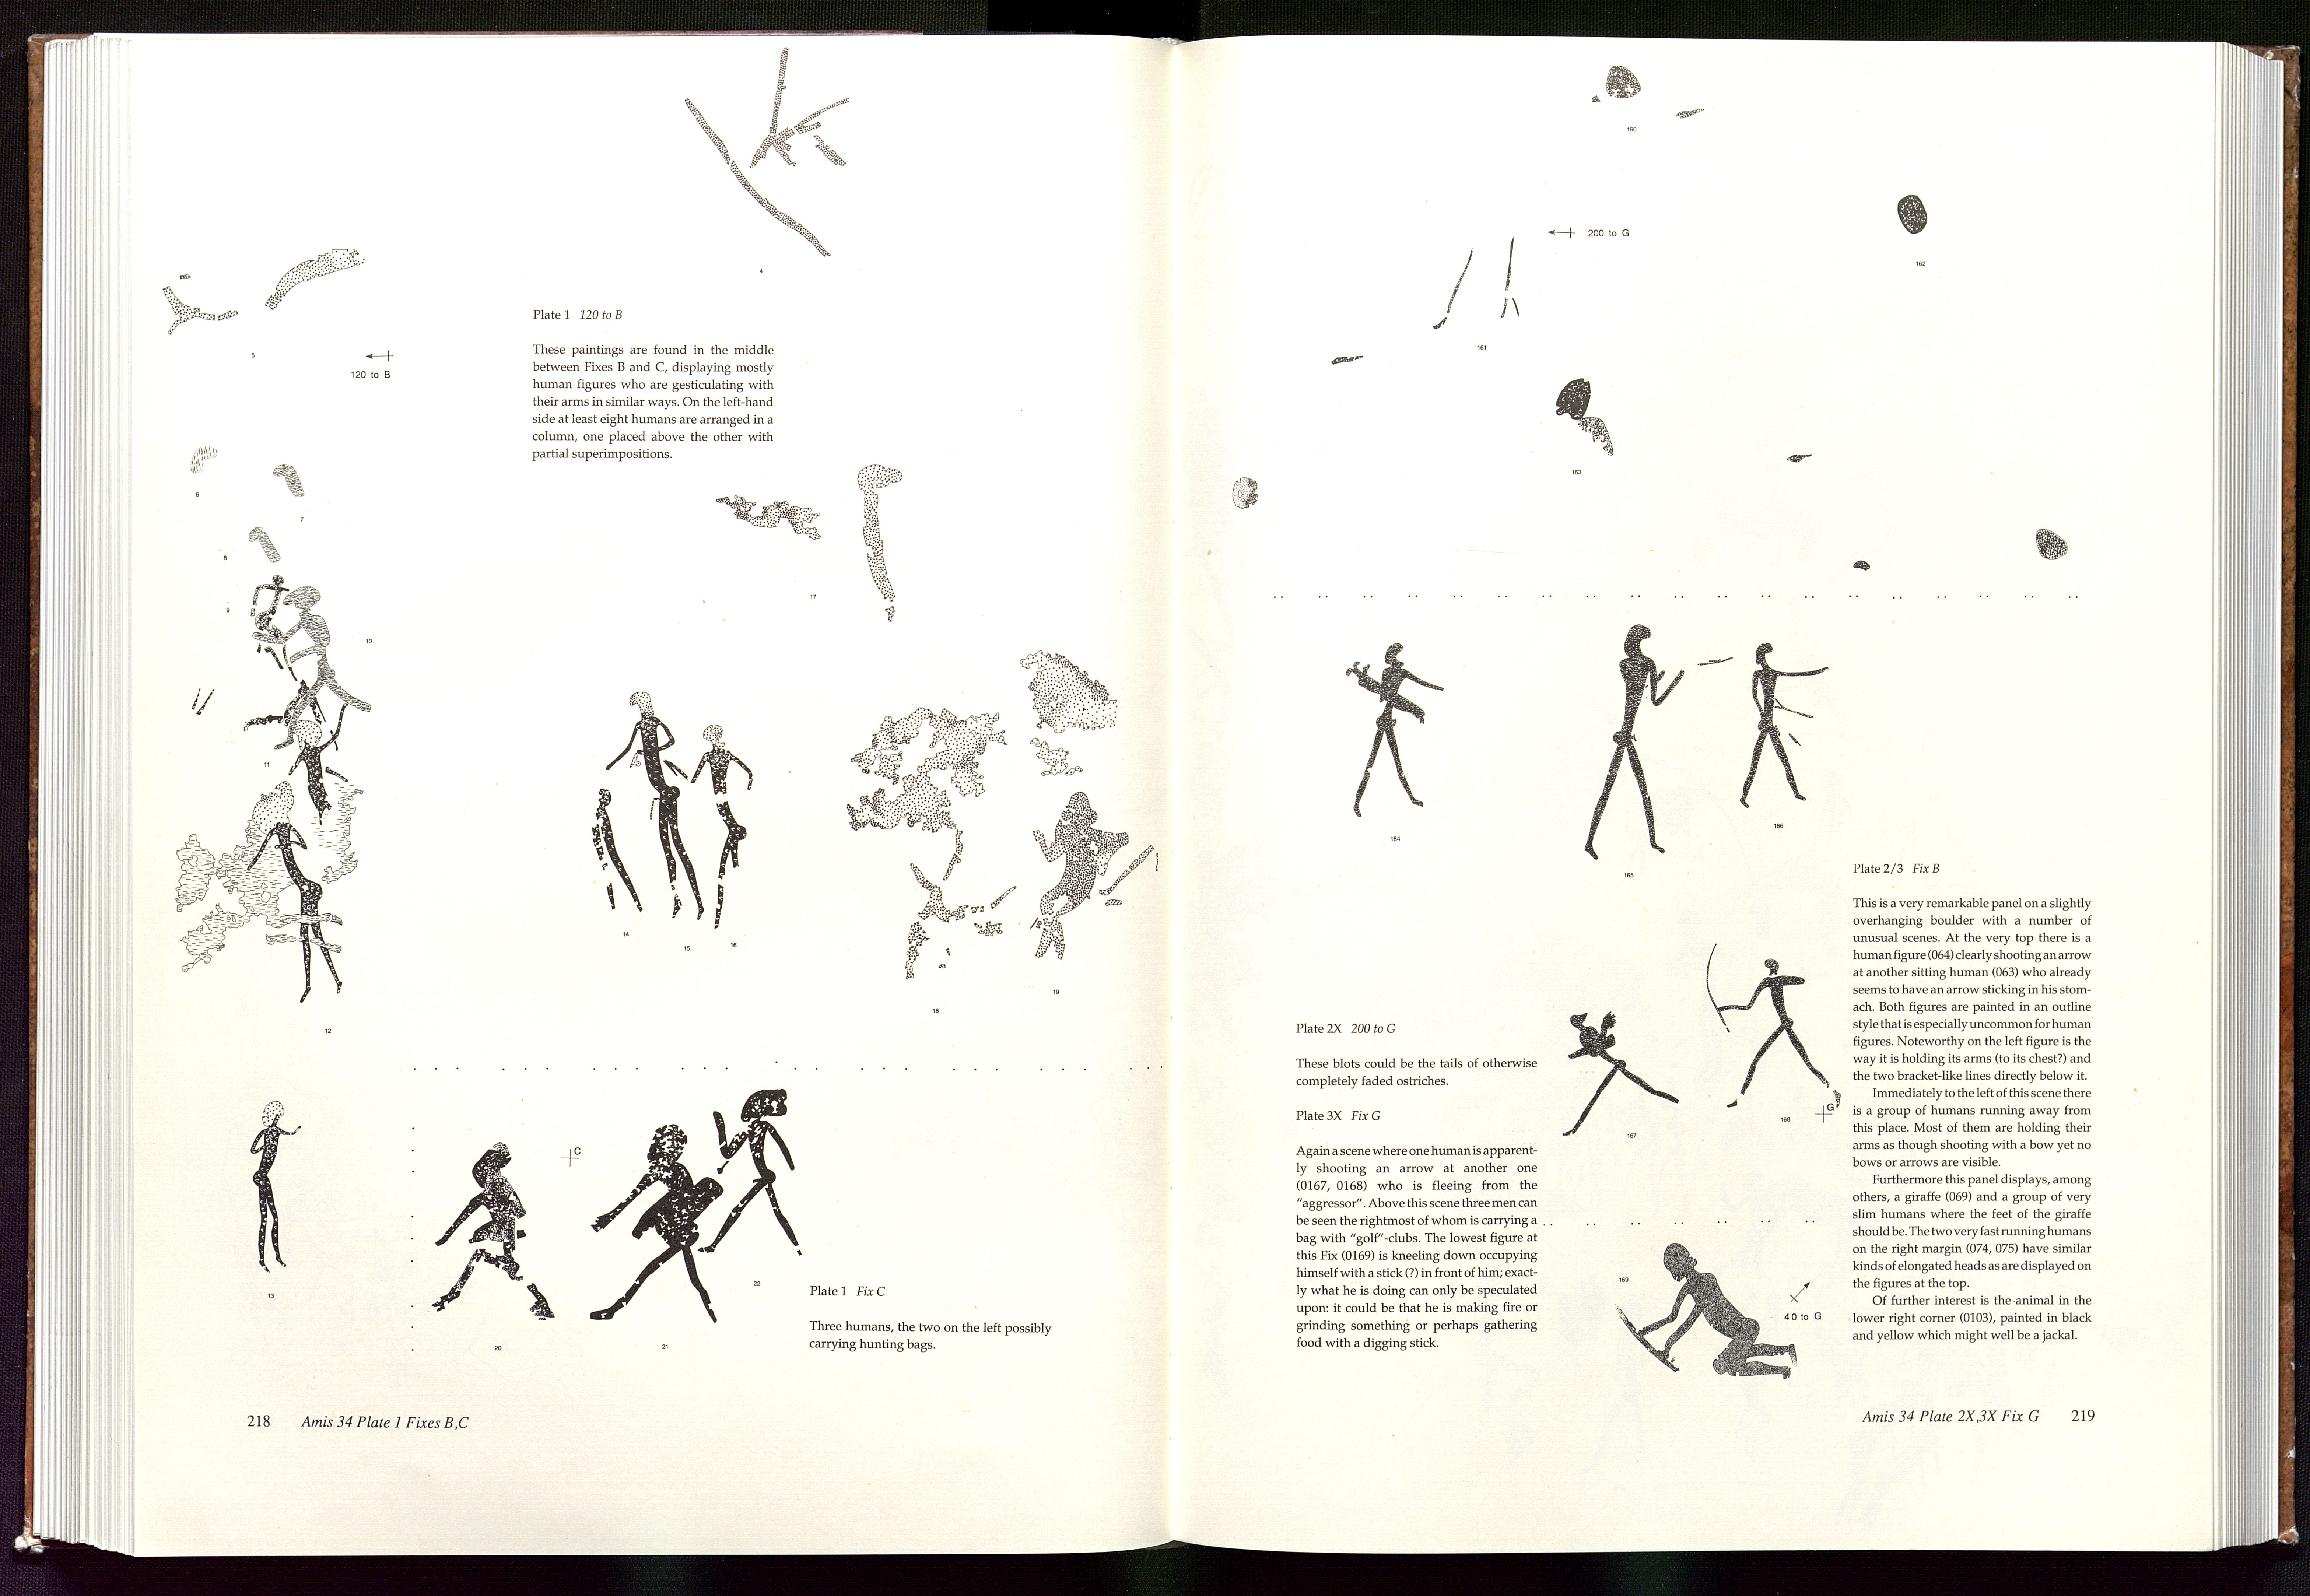human: (1581, 627, 1731, 873), (1620, 1231, 1816, 1388), (596, 1126, 729, 1337), (1696, 929, 1841, 1118), (439, 1133, 559, 1320), (1330, 639, 1443, 841), (709, 1079, 805, 1266), (1738, 642, 1831, 819), (1561, 1005, 1676, 1143), (235, 1094, 301, 1288), (581, 777, 645, 927)
